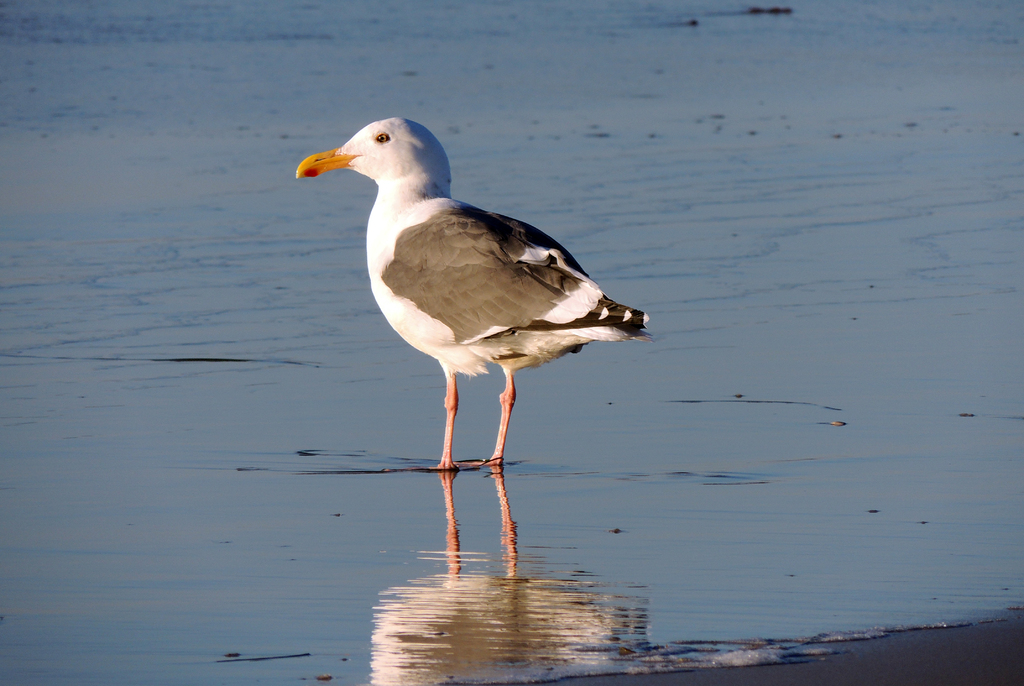Bird: (296, 118, 655, 469)
